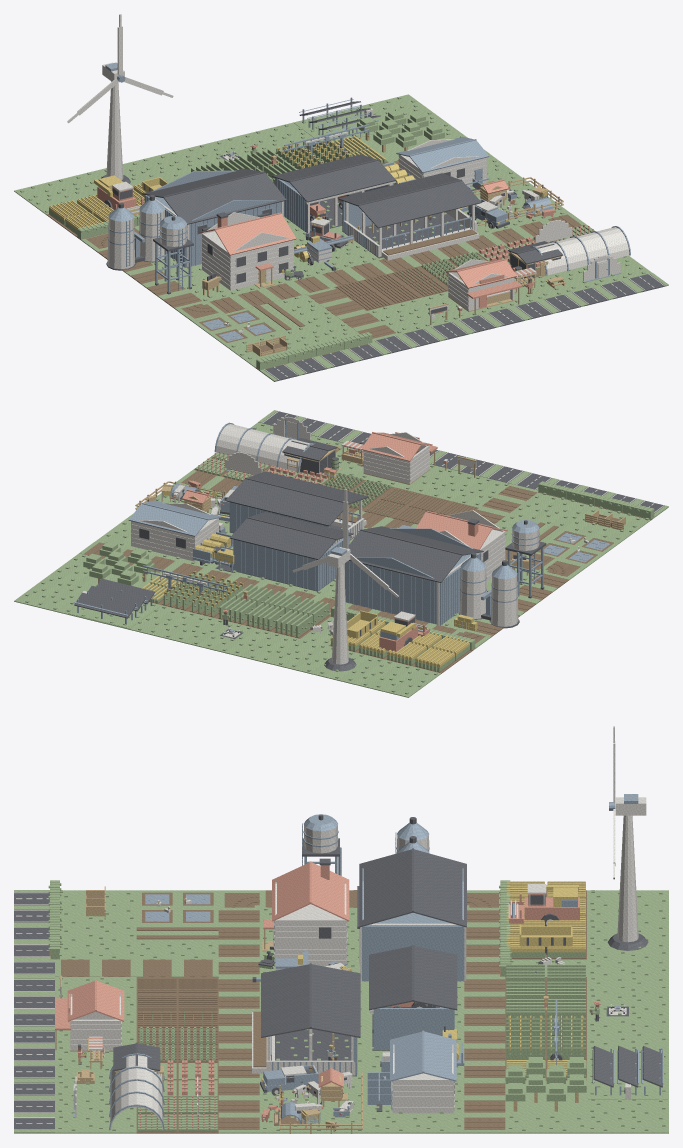
The picture shows the model from 3 angles, top to bottom: view 1: azimuth 30°, elevation 25°; view 2: azimuth 150°, elevation 25°; view 3: azimuth 270°, elevation 25°; orthographic projection. The views are drawn at different scales.
Visible parts, largest first — view 1: 230-cow-shed/0, 225-steel-barn/1, 226-machinery-shed/0, 229-modern-farmhouse/0, 233-polytunnel/0, 225-steel-barn/0, 224-grain-silo-pair/1, 230-cow-shed/1, 229-modern-farmhouse/1, 227-milking-parlour/1, 235-farm-shop/2, 227-milking-parlour/0 (+16 smaller); view 2: 225-steel-barn/0, 230-cow-shed/0, 225-steel-barn/1, 226-machinery-shed/0, 233-polytunnel/0, 226-machinery-shed/2, 224-grain-silo-pair/1, 227-milking-parlour/0, 235-farm-shop/1, 237-solar-panel-array/2, 227-milking-parlour/1, 236-wind-turbine/1 (+55 smaller); view 3: 230-cow-shed/0, 225-steel-barn/1, 226-machinery-shed/0, 225-steel-barn/0, 227-milking-parlour/1, 229-modern-farmhouse/0, 229-modern-farmhouse/1, 236-wind-turbine/1, 227-milking-parlour/0, 233-polytunnel/0, 226-machinery-shed/2, 235-farm-shop/2 (+66 smaller).
Part boxes in pixels (x1,y1,x2,y2): 230-cow-shed/0: (338,173,481,258); 225-steel-barn/1: (142,168,286,233); 226-machinery-shed/0: (272,154,395,233); 229-modern-farmhouse/0: (202,212,293,290); 233-polytunnel/0: (532,220,629,280); 225-steel-barn/0: (144,170,283,267); 224-grain-silo-pair/1: (107,209,165,269); 230-cow-shed/1: (343,202,479,260); 229-modern-farmhouse/1: (199,212,296,270); 227-milking-parlour/1: (396,137,489,191); 235-farm-shop/2: (445,259,522,298); 227-milking-parlour/0: (398,139,486,186); 225-steel-barn/0: (345,528,481,625); 230-cow-shed/0: (225,471,368,540); 225-steel-barn/1: (348,526,483,582); 226-machinery-shed/0: (230,512,353,591); 233-polytunnel/0: (216,416,313,475); 226-machinery-shed/2: (233,536,349,590); 224-grain-silo-pair/1: (460,567,518,626); 227-milking-parlour/0: (131,502,223,561); 235-farm-shop/1: (363,432,429,484); 237-solar-panel-array/2: (74,578,155,618); 227-milking-parlour/1: (128,500,225,536); 236-wind-turbine/1: (327,547,350,664); 230-cow-shed/0: (261,963,360,1076); 225-steel-barn/1: (357,848,466,928); 226-machinery-shed/0: (369,945,457,1050); 225-steel-barn/0: (362,868,464,981); 227-milking-parlour/1: (367,1030,456,1104); 229-modern-farmhouse/0: (274,882,347,966); 229-modern-farmhouse/1: (263,861,349,929); 236-wind-turbine/1: (615,797,646,942); 227-milking-parlour/0: (382,1044,454,1113); 233-polytunnel/0: (75,1055,198,1130); 226-machinery-shed/2: (373,1008,454,1050); 235-farm-shop/2: (55,979,124,1030).
Size of the model in its own units: 57.13 by 23.35 by 64.
Materials: 8 (8 with a texture image).
